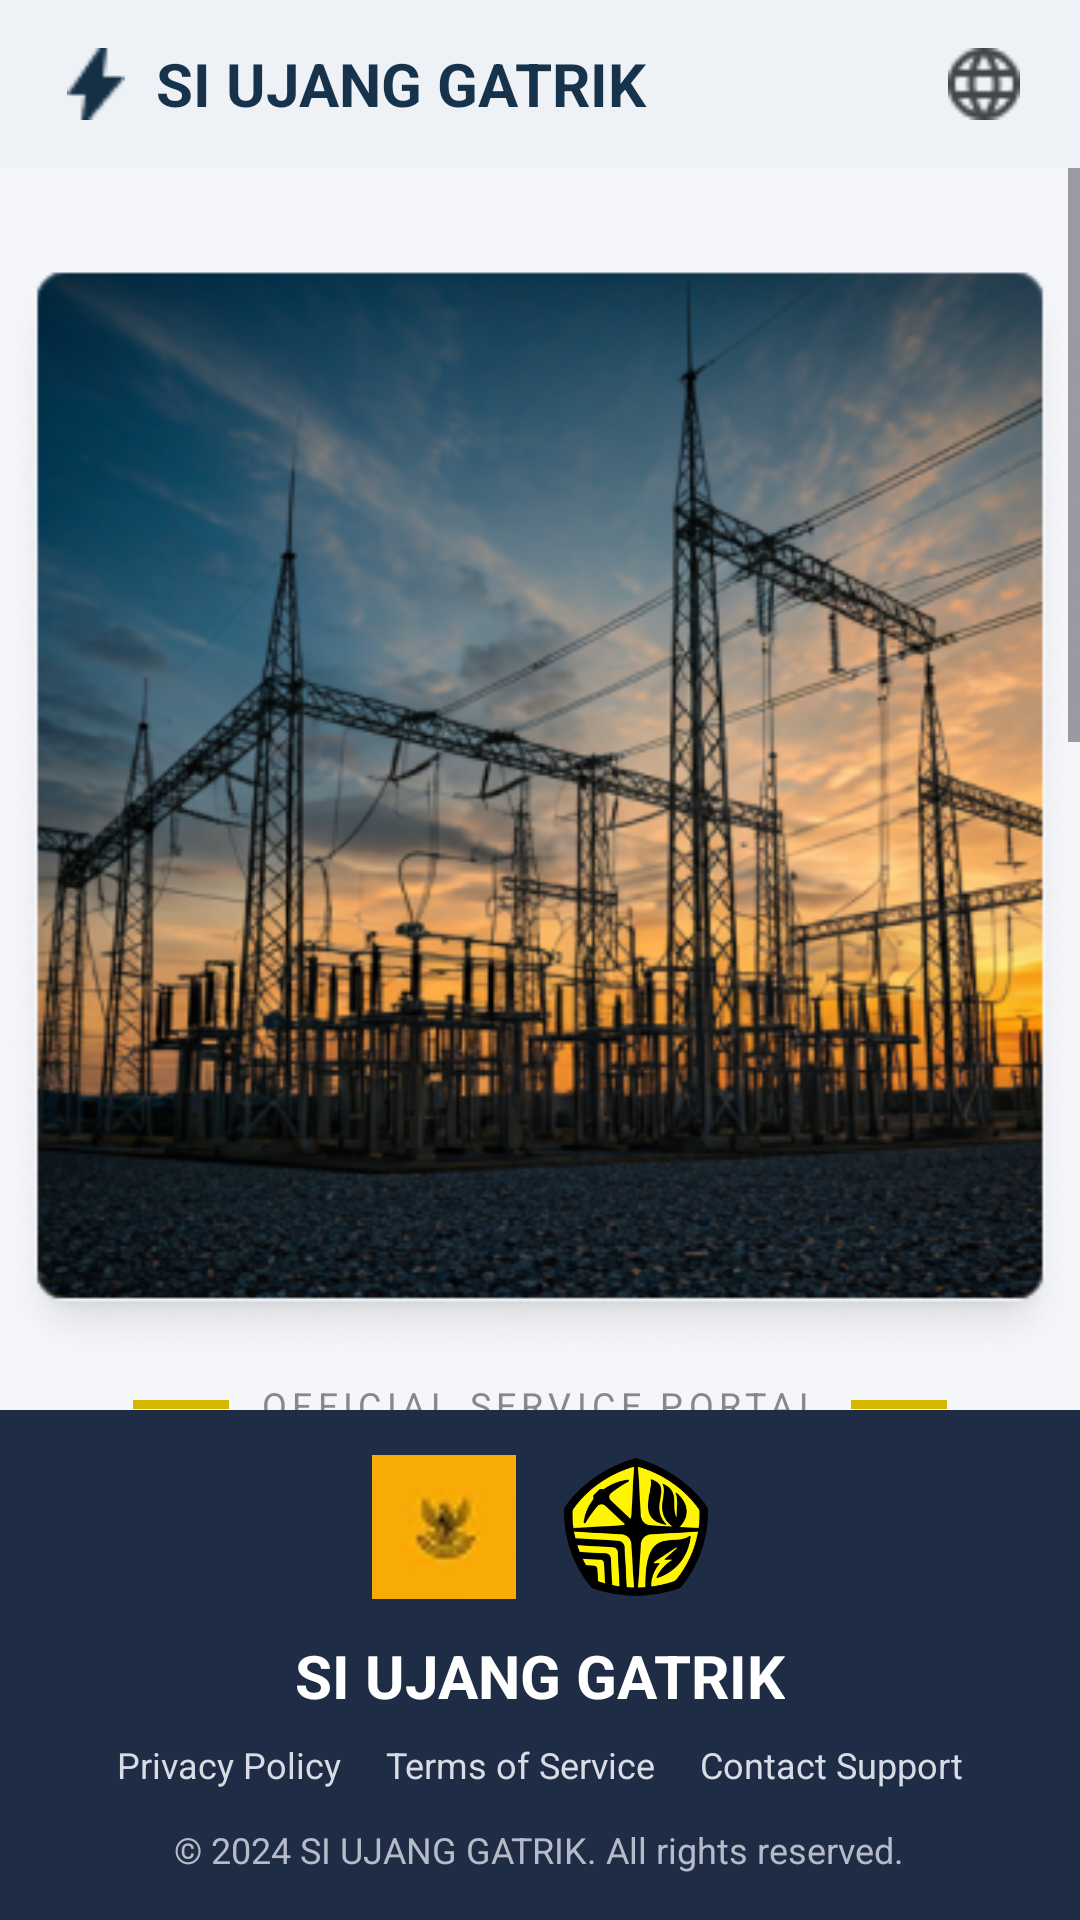

Where to tap for icons on this 1080w x 1920h app screen, as point (x, y):
flash: point (96, 84)
language: point (984, 84)
